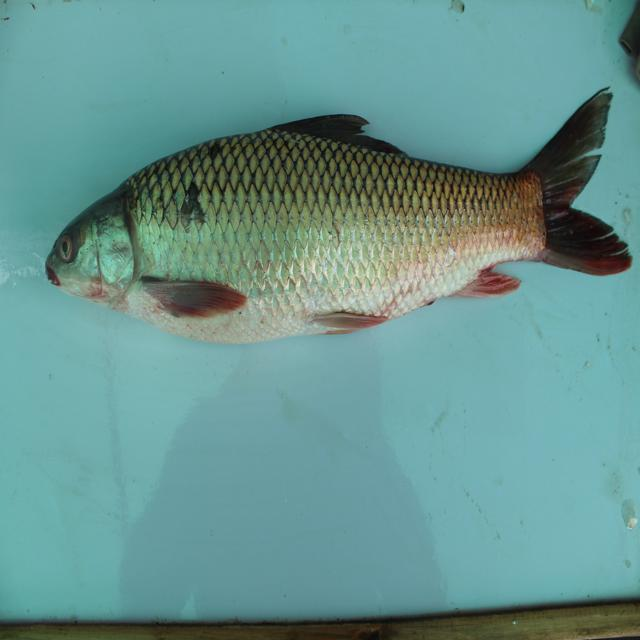Mori: (41, 99, 633, 333)
